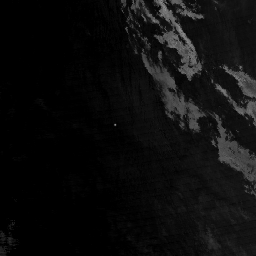Target: (112, 122, 117, 126)
